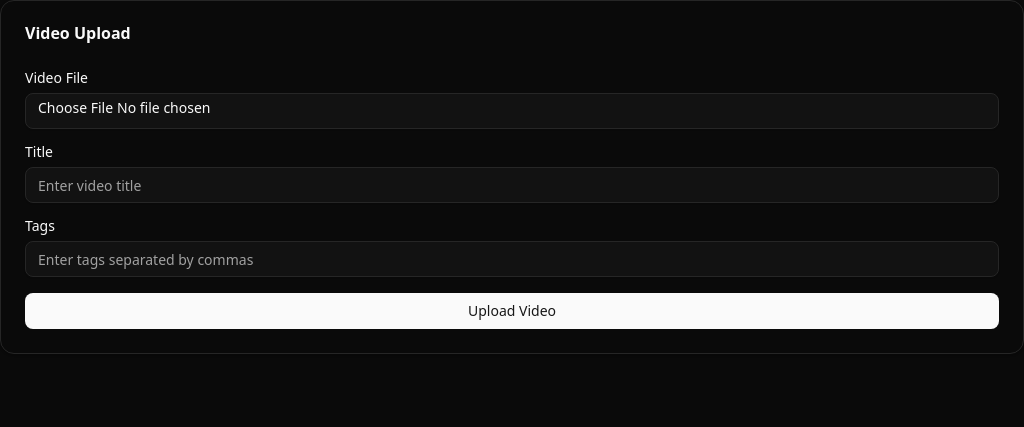
UploadForm › should show validation errors if required fields are empty
Click the button "Upload Video". click: (512, 311)
box: x1=25 y1=293 x2=999 y2=329
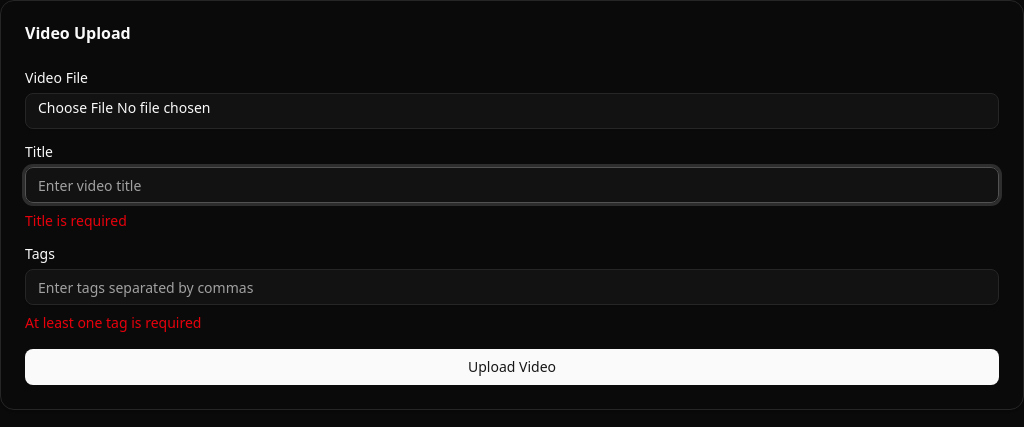
Expected: the text "Title is required" is shown, x1=25 y1=211 x2=127 y2=230
Expected: the text "At least one tag is required" is shown, x1=25 y1=313 x2=202 y2=332
